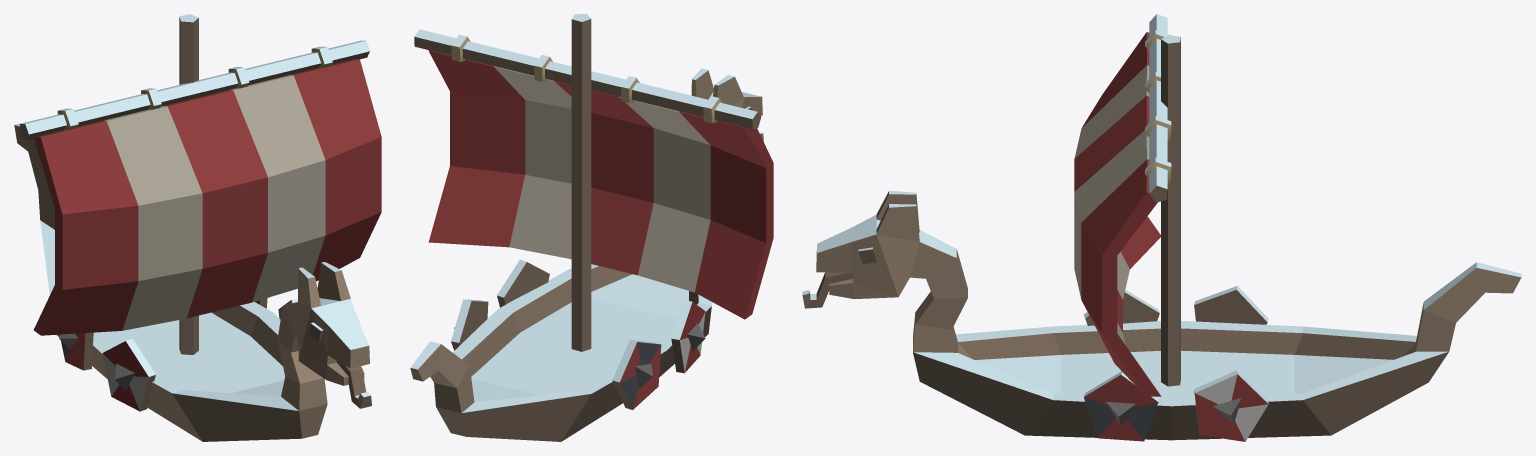
Rendered from SM_Prop_Viking_Boat_01_Snow.fbx.
3 views of the same model, side by side, from view 1: azimuth 30°, elevation 25°; view 2: azimuth 150°, elevation 25°; view 3: azimuth 270°, elevation 25° (orthographic). The views are drawn at different scales.
Parts seen in each view (by area): view 1: SM_Prop_Viking_Boat_01_Snow; view 2: SM_Prop_Viking_Boat_01_Snow; view 3: SM_Prop_Viking_Boat_01_Snow.
Boxes of the visible parts, x1,y1,x2,y2 form: SM_Prop_Viking_Boat_01_Snow: [14, 14, 381, 441]; SM_Prop_Viking_Boat_01_Snow: [410, 14, 773, 441]; SM_Prop_Viking_Boat_01_Snow: [802, 14, 1521, 441].
Size of the model in its own units: 108 by 108 by 191.
1 material, 1 textured.
